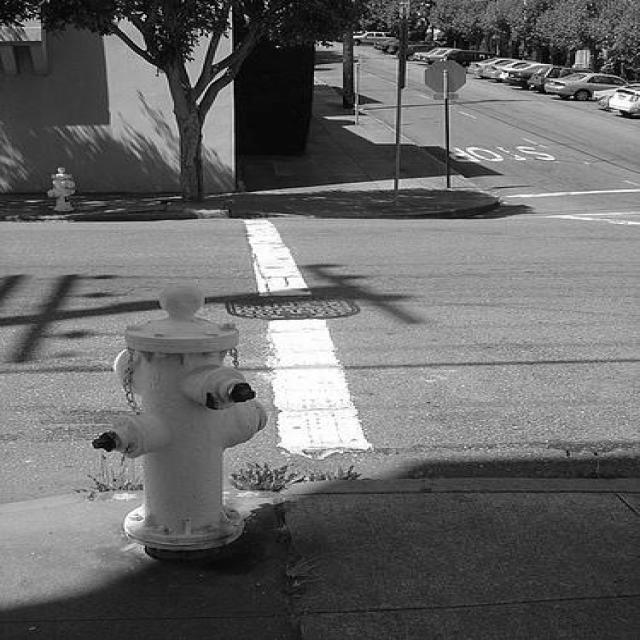vehicle: (546, 72, 628, 99), (528, 67, 594, 95), (482, 59, 539, 83), (504, 65, 547, 89), (609, 85, 639, 118), (499, 63, 554, 81), (466, 58, 513, 76), (352, 30, 397, 46), (396, 45, 438, 61), (425, 49, 463, 65), (372, 40, 400, 54)
